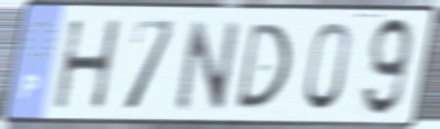0: (303, 20, 354, 114)
7: (123, 16, 177, 114)
9: (360, 14, 416, 120)
D: (232, 20, 294, 113)
H: (51, 16, 124, 113)
N: (173, 16, 244, 115)
